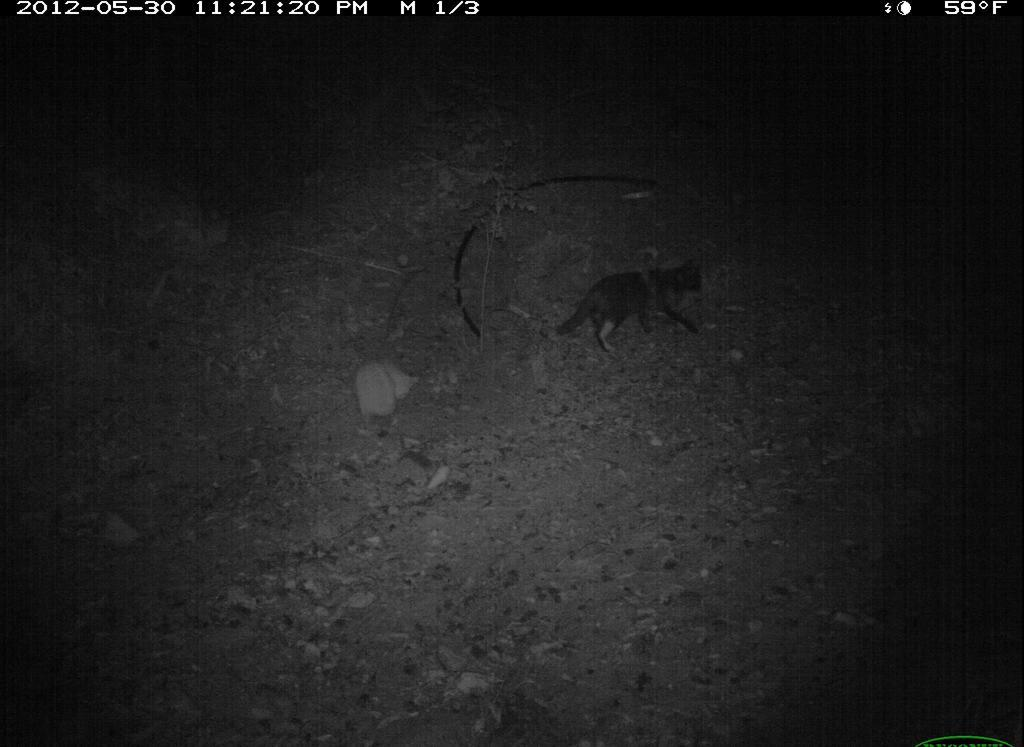cat: (547, 250, 716, 365)
